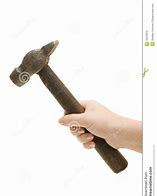hammer: (7, 37, 131, 175)
